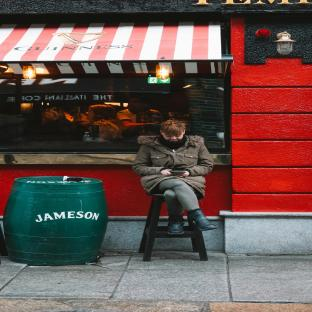Human: (132, 120, 217, 235)
